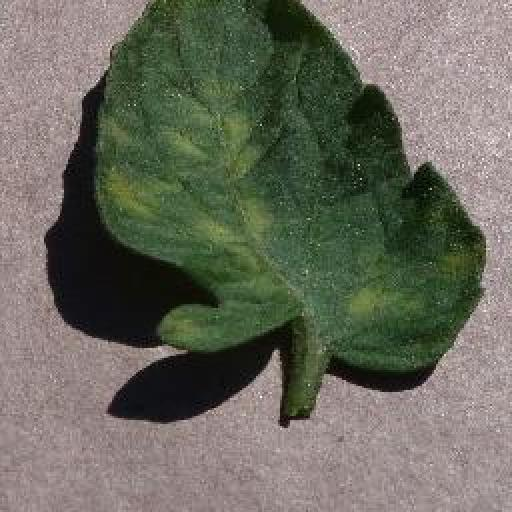disease_tomato: (94, 0, 485, 367)
